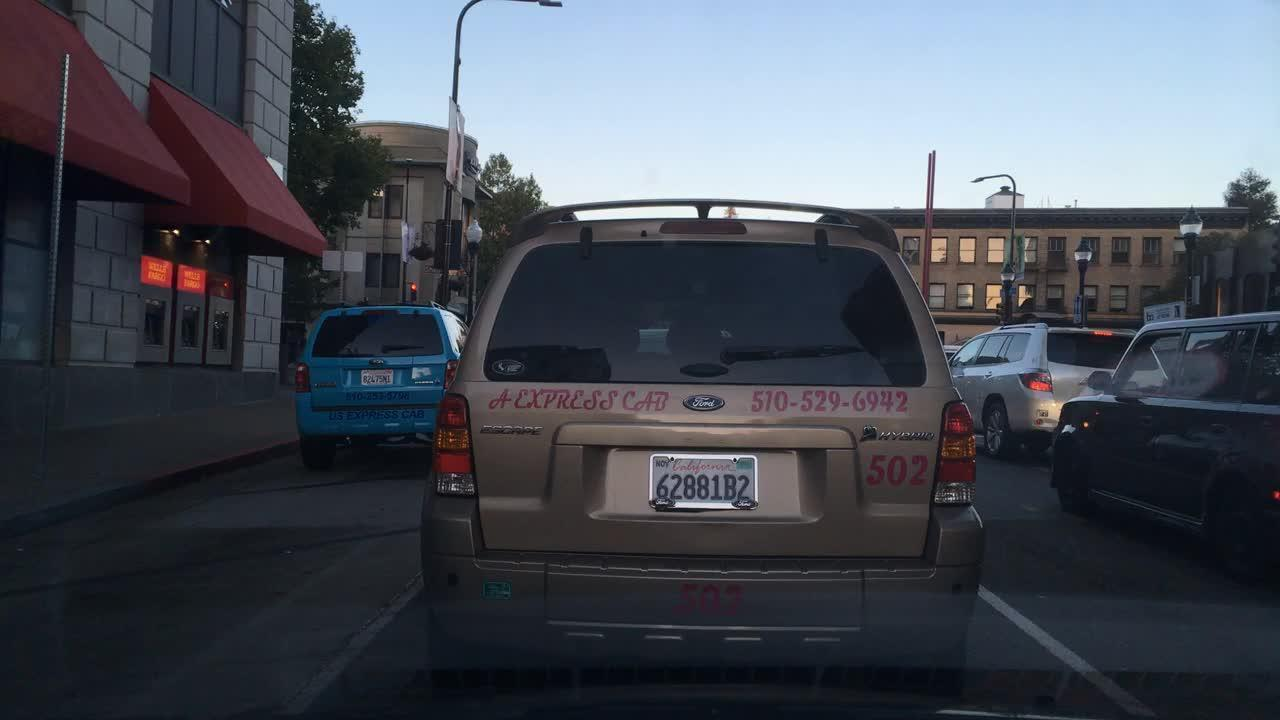ford: (681, 391, 736, 420)
